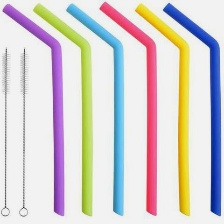drinking_straw: (0, 0, 69, 219), (30, 1, 99, 218), (129, 0, 194, 220), (160, 0, 224, 219), (64, 0, 128, 218), (98, 0, 160, 219)
